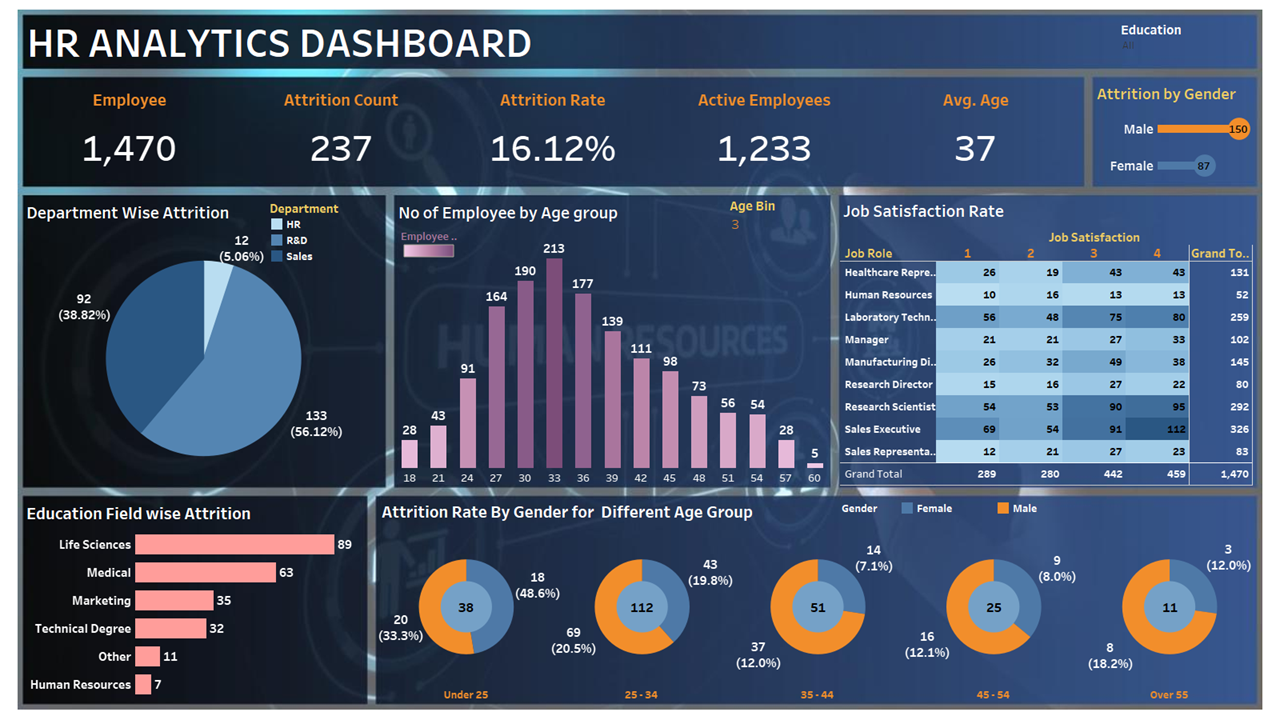

The page's visual inventory and layout, read from the dashboard file:
{"tool":"tableau","page":{"name":"HR Analytics Dashboard","canvas":[1580,900],"ordinal":0},"visuals":[{"type":"image","param":"D:/dataset/HR background.pptx.jpg","box":[8,8,1564,884]},{"type":"text","box":[21,21,656,62]},{"type":"filter","title":"No of Employee by Age group","param":"[federated.0r8394a0gi813p16ya9na0qtbzjo].[none:Education:nk]","box":[1391,25,160,54]},{"type":"worksheet","title":"KPI","mark":"Automatic","box":[20,97,1322,132]},{"type":"worksheet","title":"Attrition by Gender","mark":"Bar","rows":["Gender"],"cols":["Calculation_227994734364962816","Calculation_227994734364962816"],"box":[1357,97,202,133]},{"type":"worksheet","title":"Job Satisfaction Rate","mark":"Square","rows":["Job Role"],"cols":["vtsum"],"box":[1040,243,519,366]},{"type":"worksheet","title":"Department Wise Attrition","mark":"Pie","box":[19,245,451,363]},{"type":"worksheet","title":"No of Employee by Age group","mark":"Bar","rows":["Employee Count"],"cols":["Age (bin)"],"box":[484,245,543,362]},{"type":"parameter","param":"[Parameters].[Parameter 1]","box":[902,245,123,65]},{"type":"legend","title":"Department Wise Attrition","param":"[federated.0r8394a0gi813p16ya9na0qtbzjo].[none:Department:nk]","box":[326,248,140,88]},{"type":"legend","title":"No of Employee by Age group","param":"[federated.0r8394a0gi813p16ya9na0qtbzjo].[sum:Employee Count:qk]","box":[491,282,71,44]},{"type":"worksheet","title":"Attrition Rate By Gender for  Different Age Group","mark":"Pie","rows":["Calculation_227994734425669640","Calculation_227994734425669640"],"cols":["CF_age band"],"box":[463,619,1099,259]},{"type":"worksheet","title":"Education Field wise Attrition","mark":"Automatic","rows":["Education Field"],"cols":["Calculation_227994734364962816"],"box":[19,621,428,257]},{"type":"legend","title":"Attrition Rate By Gender for  Different Age Group","param":"[federated.0r8394a0gi813p16ya9na0qtbzjo].[none:Gender:nk]","box":[1042,625,338,34]}]}

Visuals, with their boxes in screenshot pixels (x1, y1, x2, y2), scaled from the page's 1580x900 canvas onto the 1280x720 screenshot:
image: 6/6/1274/714
text: 17/17/548/66
"No of Employee by Age group" filter: 1127/20/1257/63
"KPI" worksheet: 16/78/1087/183
"Attrition by Gender" worksheet (Bar marks): 1099/78/1263/184
"Job Satisfaction Rate" worksheet (Square marks): 843/194/1263/487
"Department Wise Attrition" worksheet (Pie marks): 15/196/381/486
"No of Employee by Age group" worksheet (Bar marks): 392/196/832/486
parameter: 731/196/830/248
"Department Wise Attrition" legend: 264/198/378/269
"No of Employee by Age group" legend: 398/226/455/261
"Attrition Rate By Gender for  Different Age Group" worksheet (Pie marks): 375/495/1265/702
"Education Field wise Attrition" worksheet: 15/497/362/702
"Attrition Rate By Gender for  Different Age Group" legend: 844/500/1118/527
